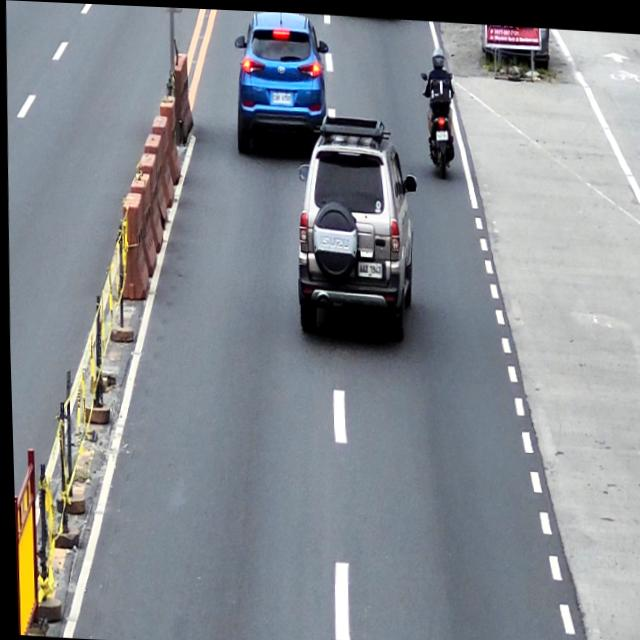Car: (291, 112, 420, 336), (232, 8, 330, 154)
License-Plate: (355, 258, 380, 274), (270, 89, 291, 101), (435, 125, 447, 138)
Motorcycle: (419, 65, 457, 175)
